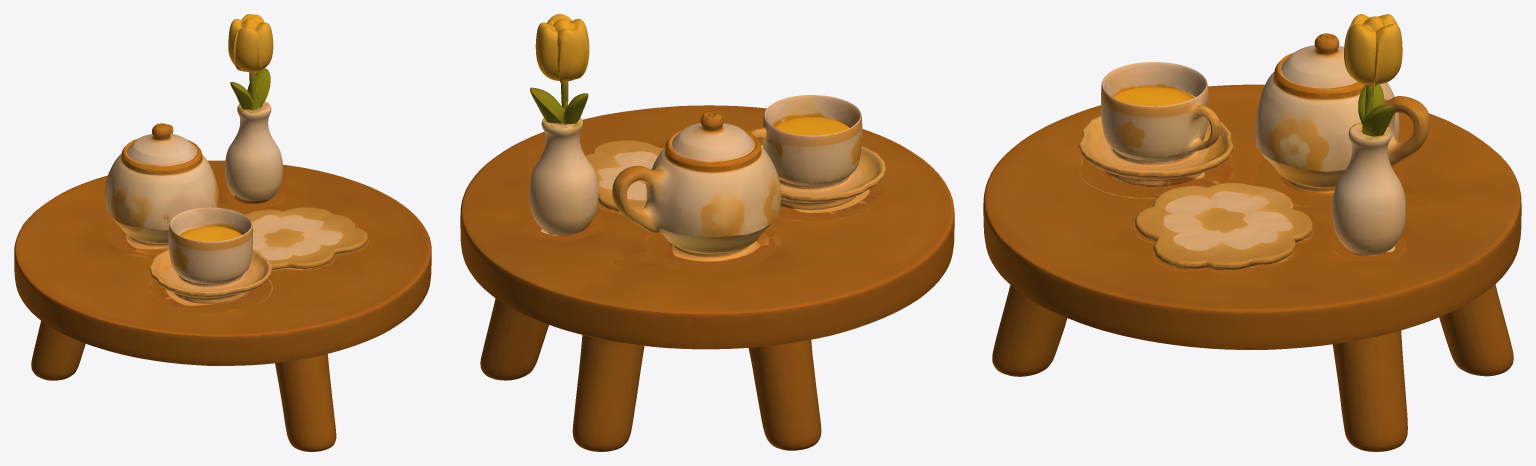
Rendered from base_basic_pbr.fbx.
3 views of the same model, side by side, from view 1: azimuth 30°, elevation 25°; view 2: azimuth 150°, elevation 25°; view 3: azimuth 270°, elevation 25° (orthographic). The views are drawn at different scales.
Parts seen in each view (by area): view 1: model; view 2: model; view 3: model.
Part boxes in pixels (left/top/right/bottom): model: left=14, top=14, right=431, bottom=451; model: left=460, top=14, right=954, bottom=451; model: left=983, top=14, right=1521, bottom=451.
Size of the model in its own units: 190 by 154 by 190.
1 material, 1 textured.
